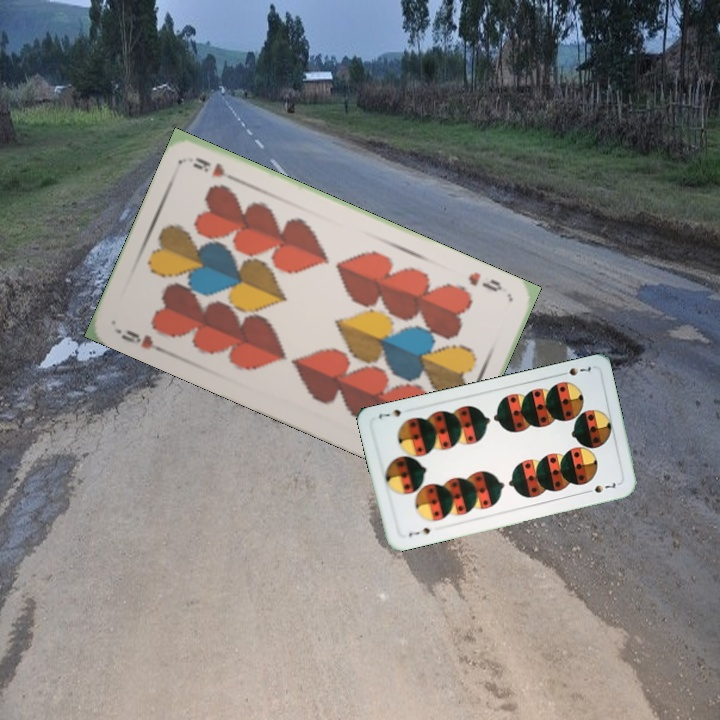H9: (113, 325, 169, 356), (463, 268, 505, 295)
S7: (555, 362, 594, 378), (404, 523, 433, 539)
